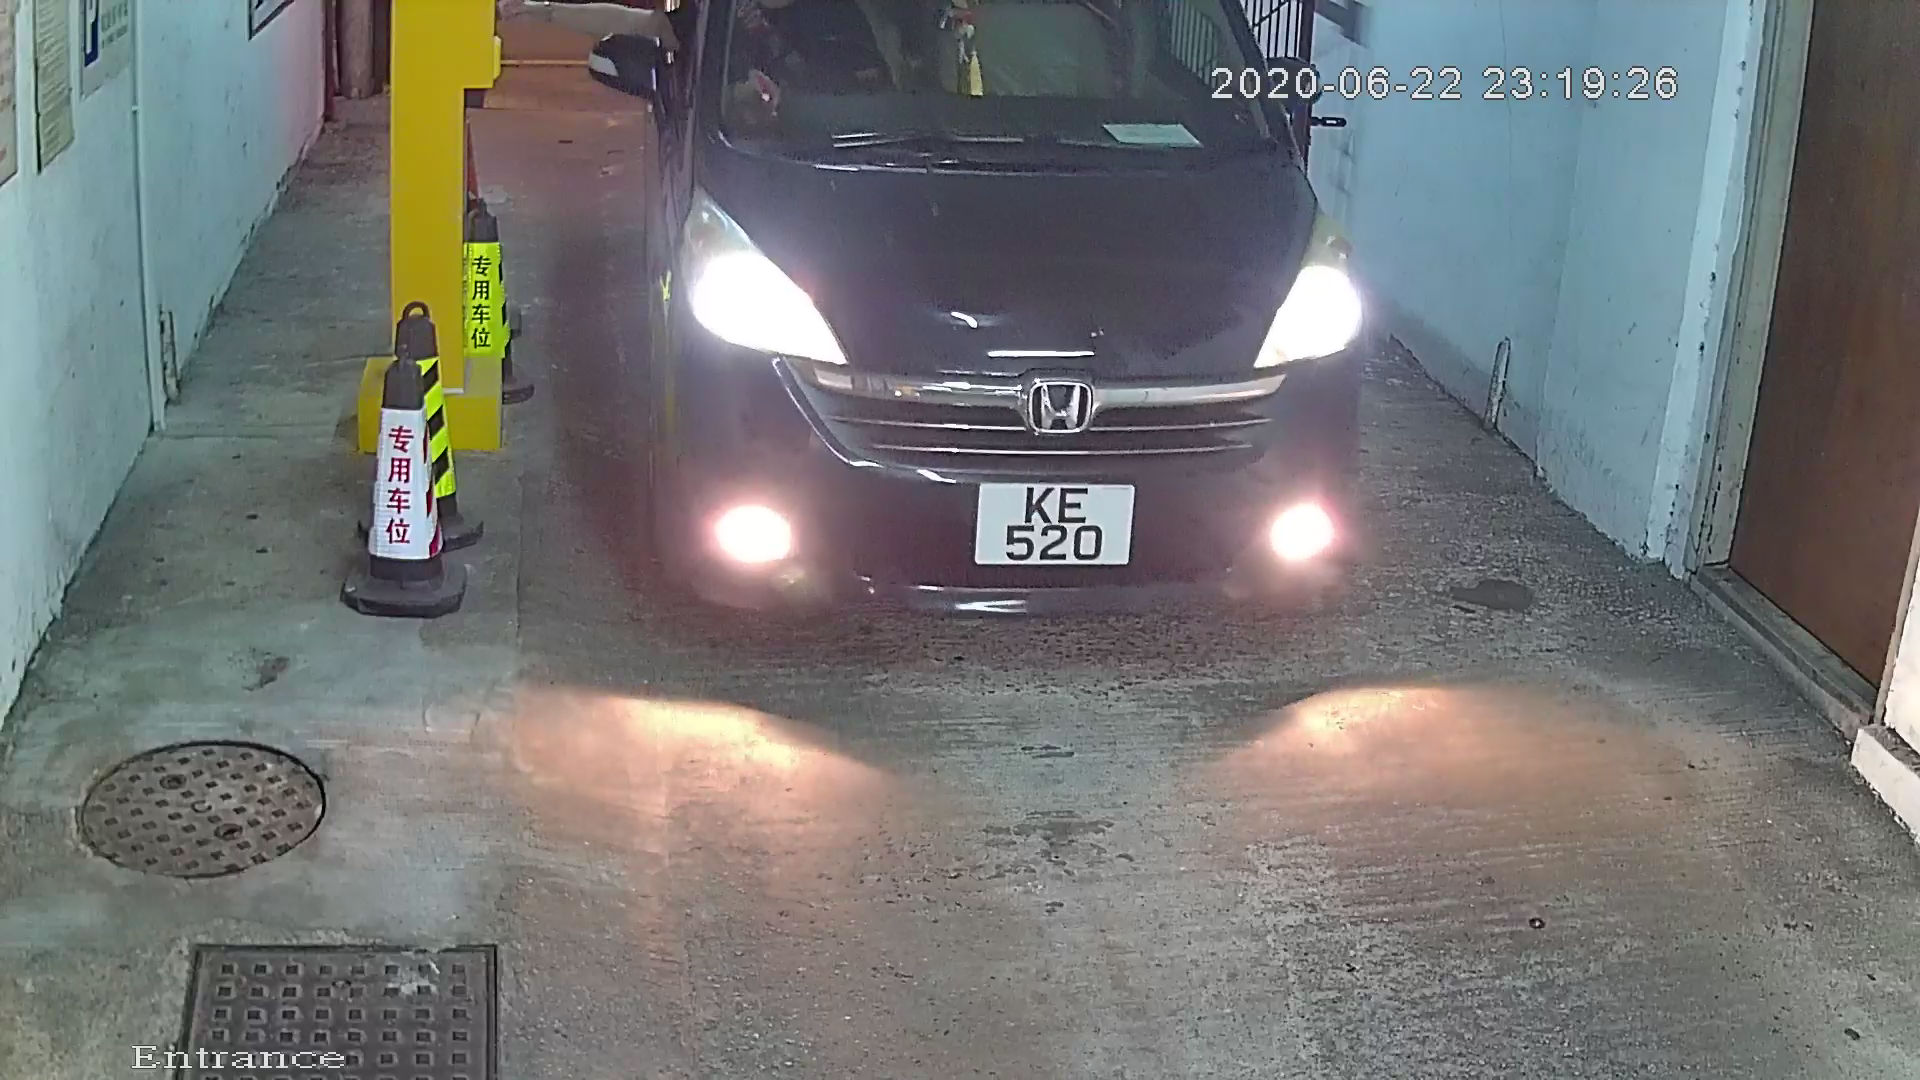privatecar: (568, 3, 1423, 661)
